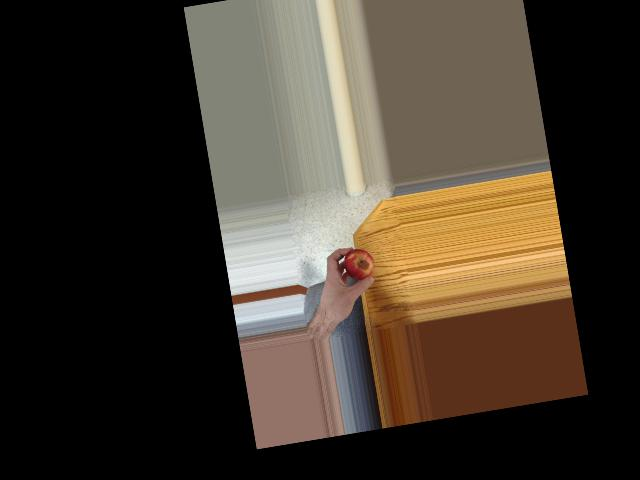apple: (339, 245, 377, 287)
